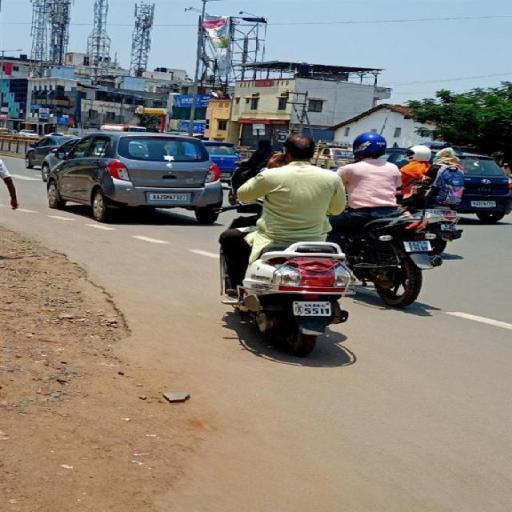using mobile: (270, 144, 289, 168)
